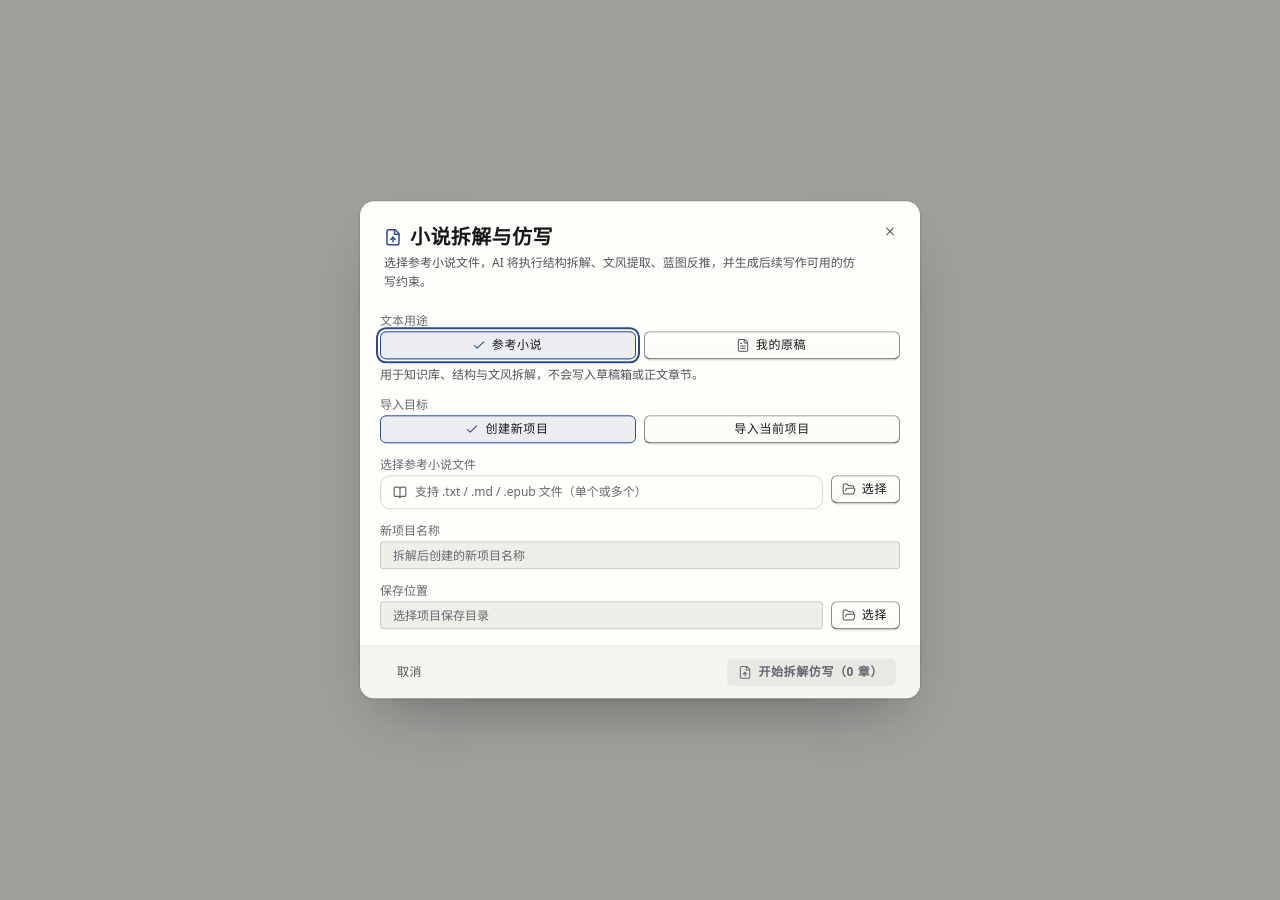
Test case: current-project reference import › explains a registered code thrown by file selection in zh-CN instead of the raw IPC error (#484)
Step 1. Click the button with test id "import-target-current" → (772, 430), box x1=644 y1=416 x2=900 y2=444
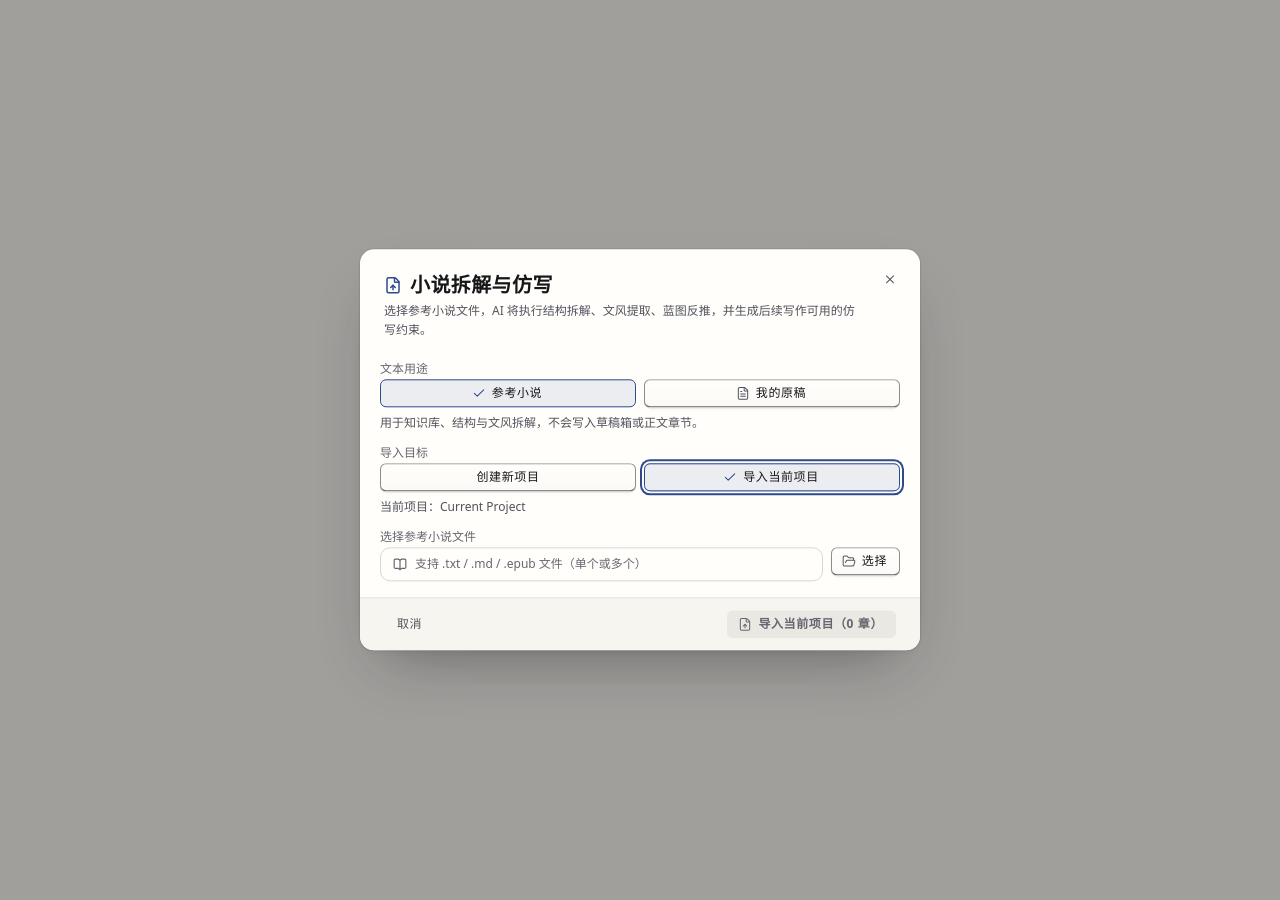
Step 2. Click the button "选择" → (865, 562), box x1=831 y1=548 x2=900 y2=576
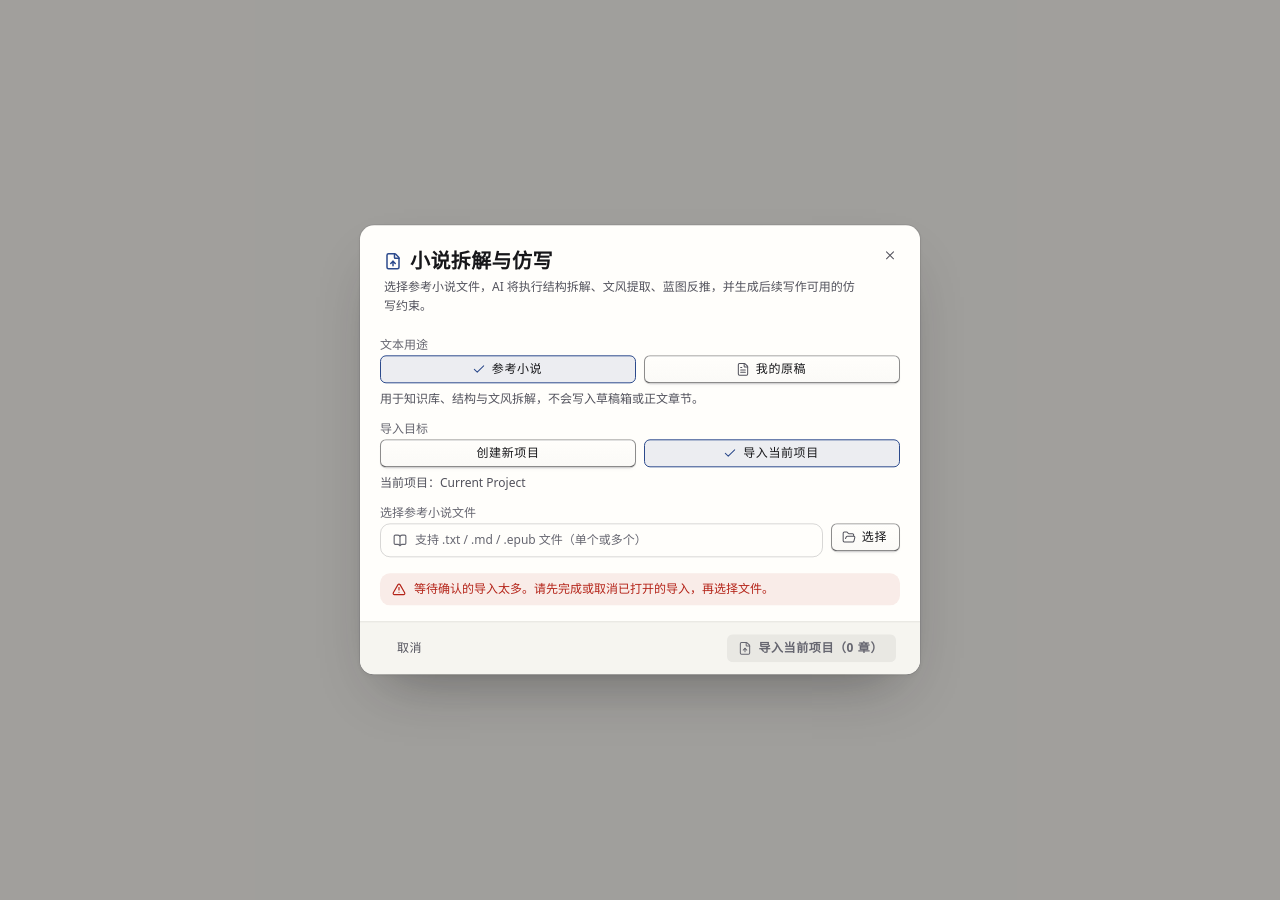
Check: the text "等待确认的导入太多。请先完成或取消已打开的导入，再选择文件。" is shown, box x1=380 y1=574 x2=900 y2=606
